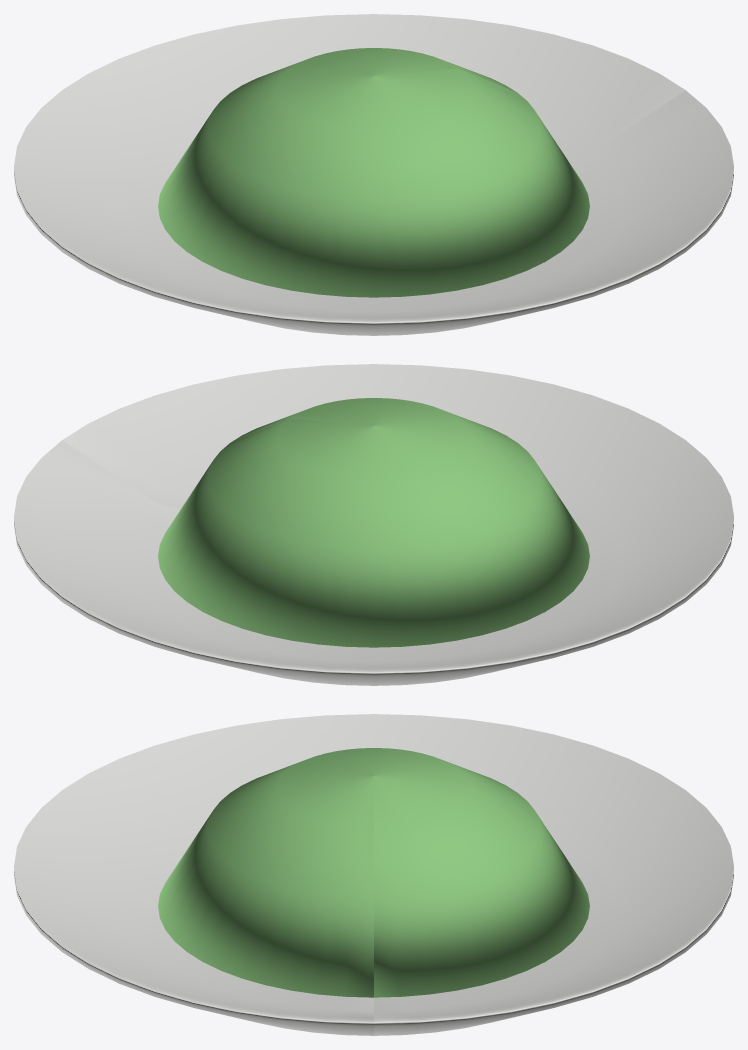
File: salada.glb
3 views of the same model, one above another, from view 1: azimuth 30°, elevation 25°; view 2: azimuth 150°, elevation 25°; view 3: azimuth 270°, elevation 25° (orthographic).
Visible parts, largest first — view 1: salada; view 2: salada; view 3: salada.
Boxes of the visible parts, x1=… form: salada: x1=14, y1=14, x2=733, y2=335; salada: x1=14, y1=364, x2=733, y2=685; salada: x1=14, y1=714, x2=733, y2=1035.
Bounding box in the file's own units: 0.26 × 0.064 × 0.26.
